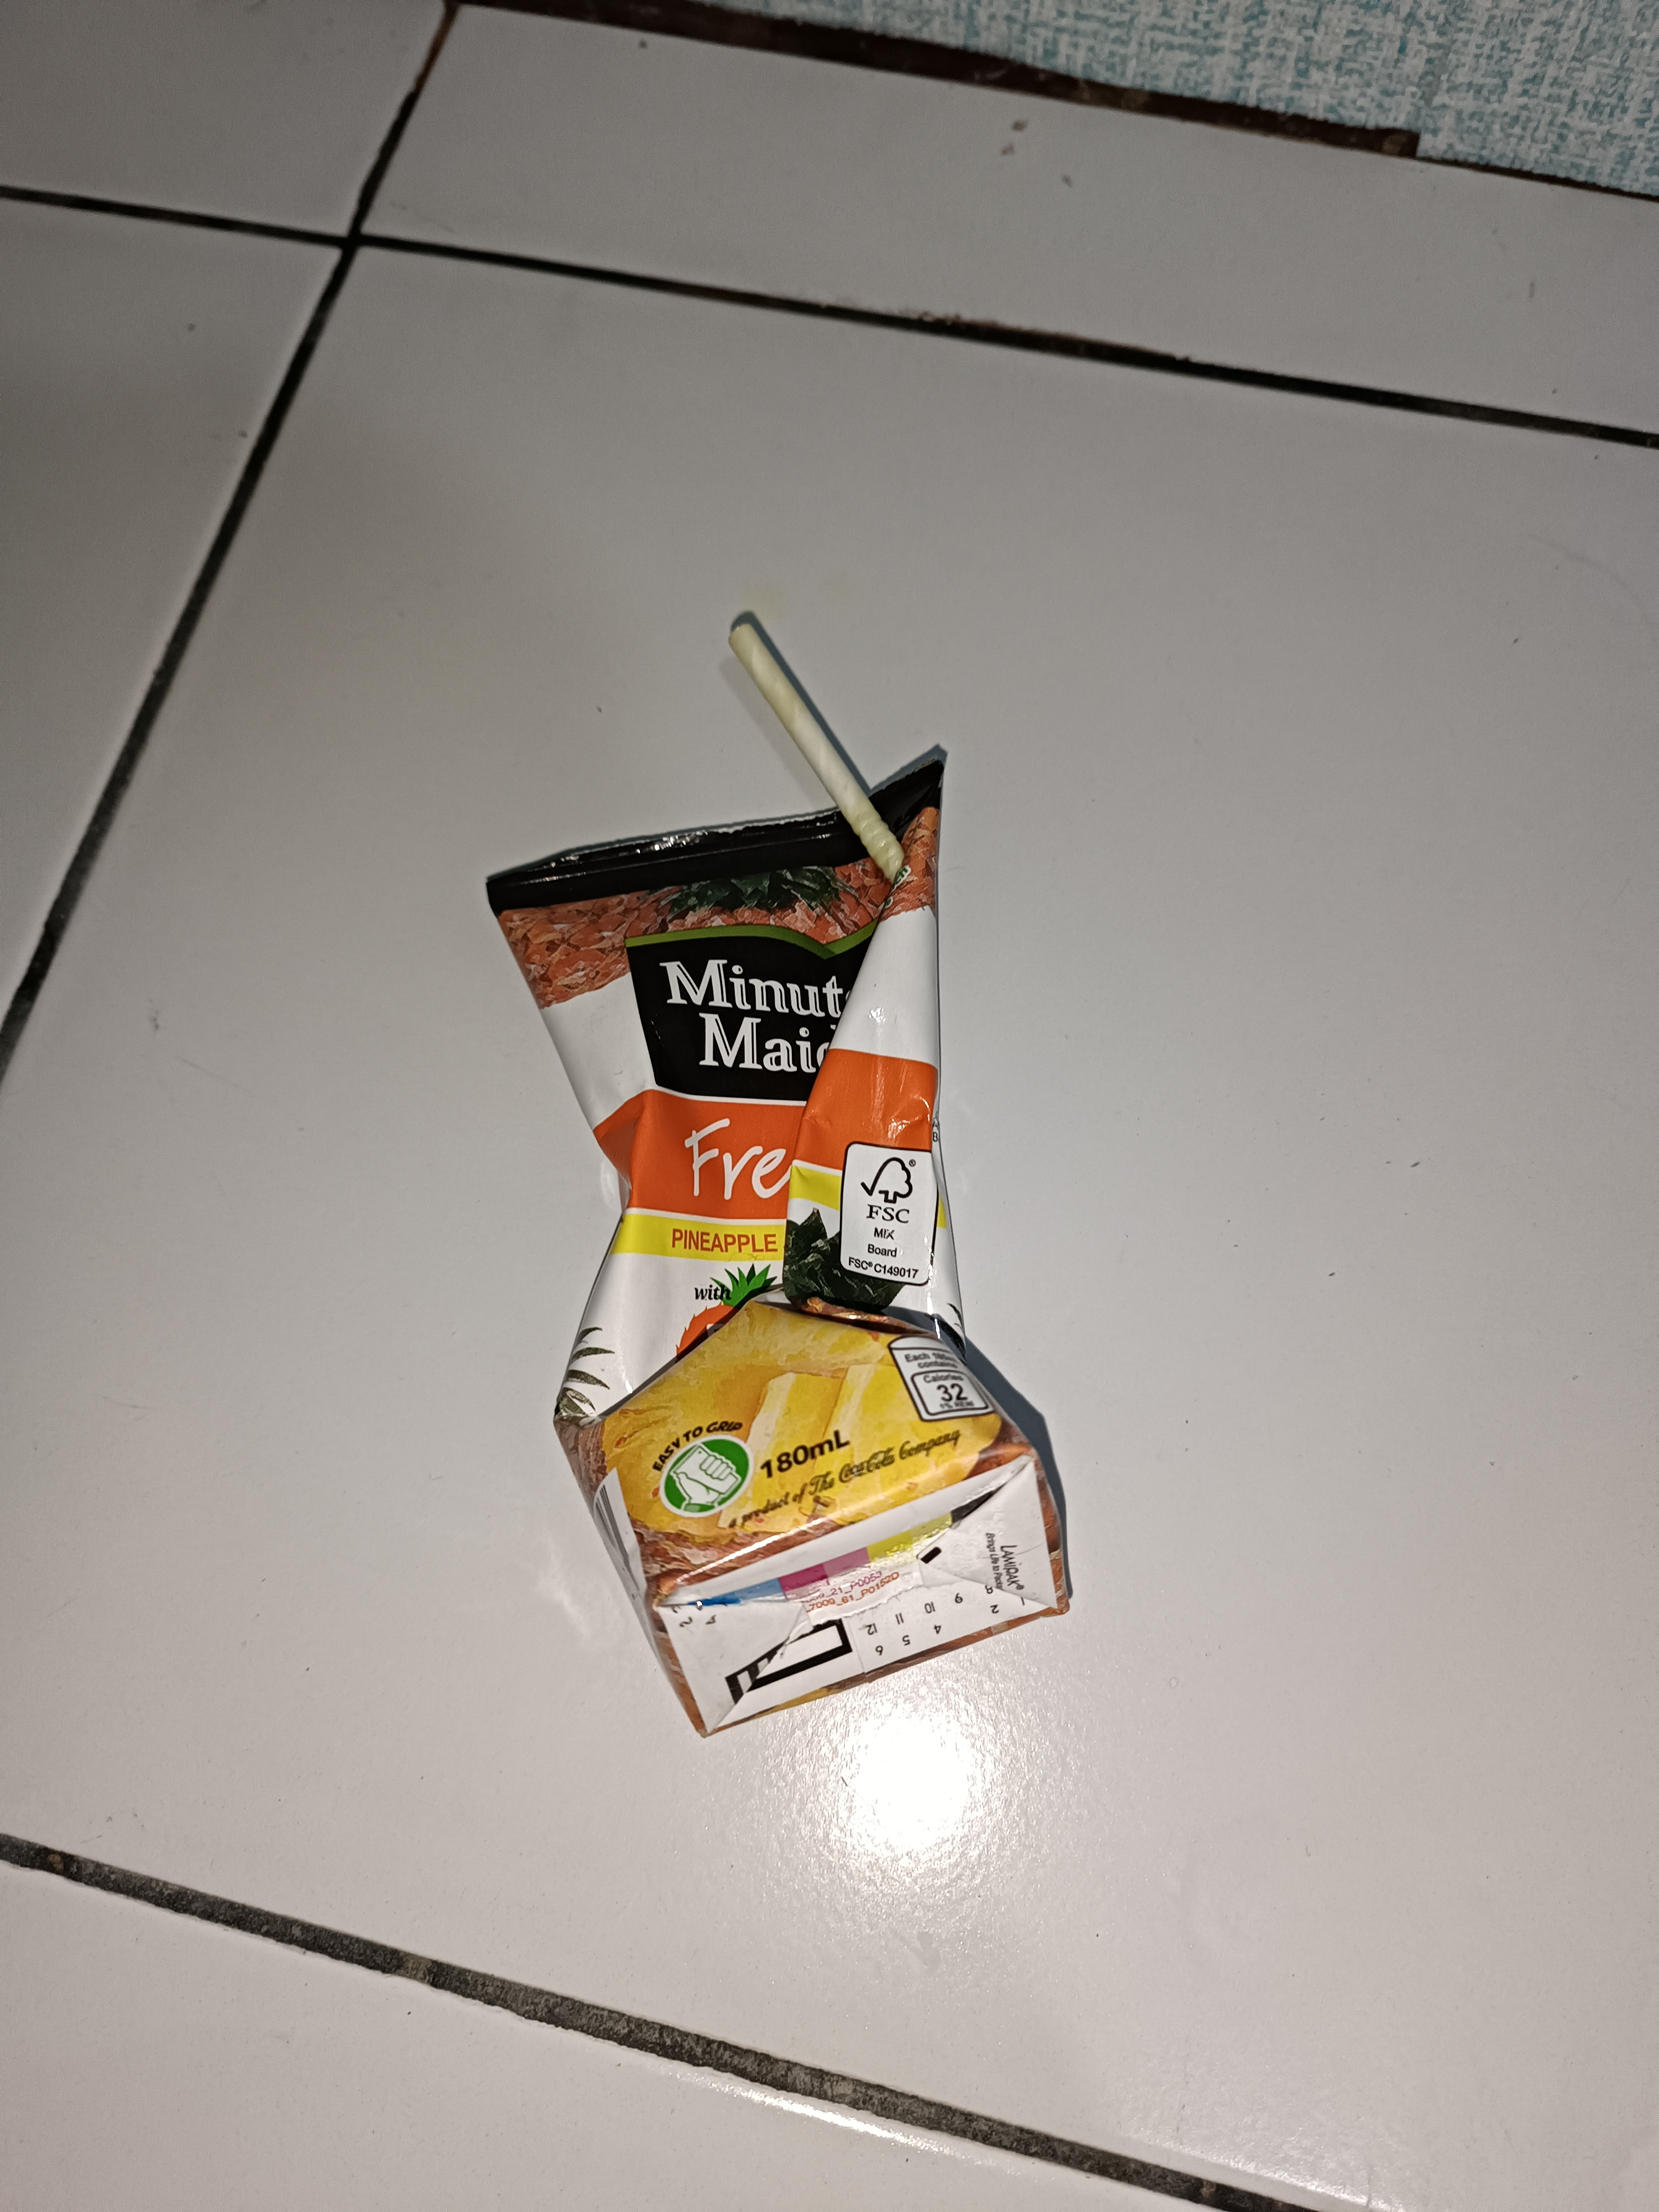Juice Box: (416, 594, 1169, 1855)
